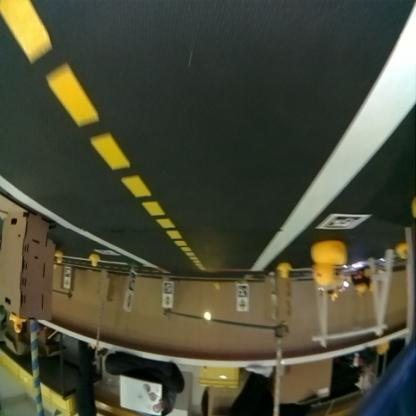Duckie: (312, 245, 346, 285), (9, 315, 24, 333), (277, 263, 289, 280), (90, 256, 98, 268), (53, 254, 61, 265)
Intersection sign: (237, 301, 247, 311)
QR code: (316, 214, 370, 230), (237, 286, 247, 298), (128, 274, 134, 290), (164, 284, 172, 292)
Signal sign: (162, 296, 171, 308)
Traffic light: (204, 313, 210, 321)
